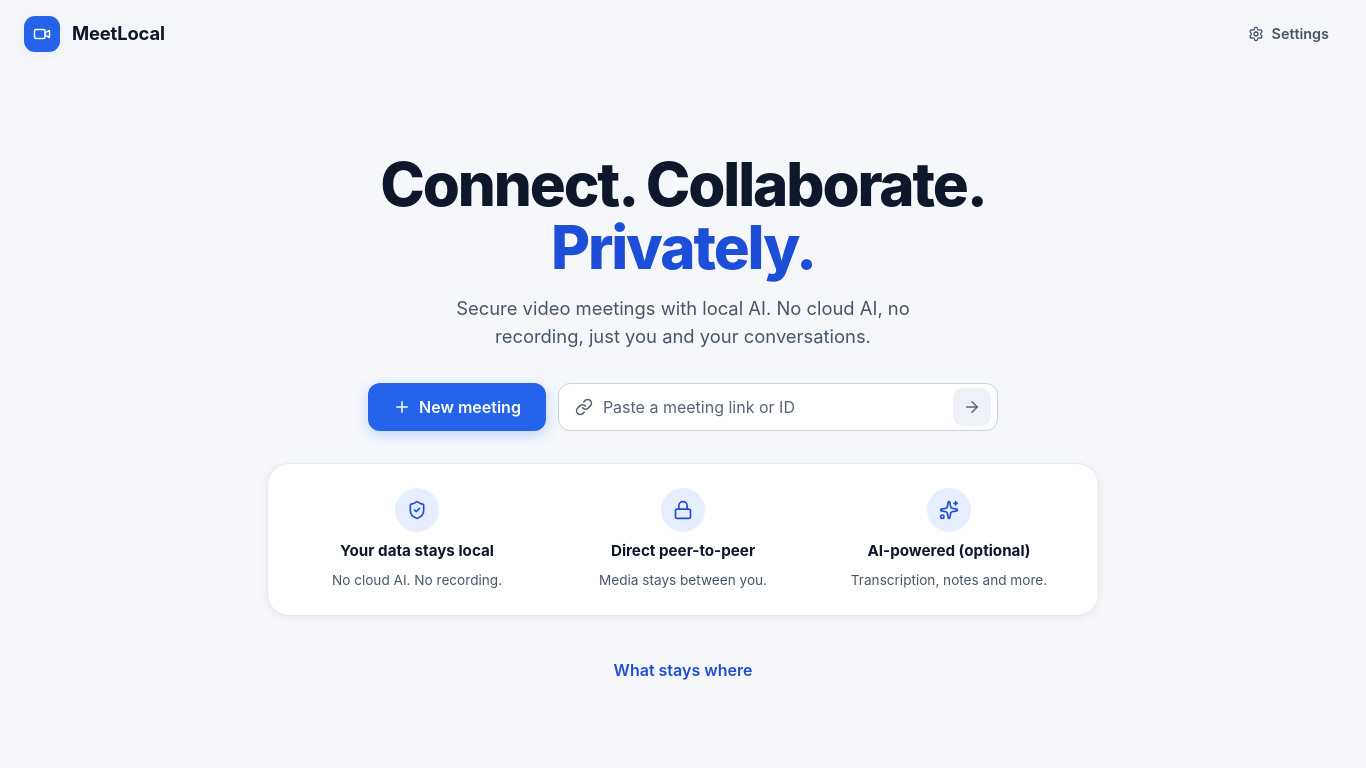
it: home page › creates a meeting and shows its shareable link
Click the button "New meeting" at (457, 407), box [368,383,546,431]
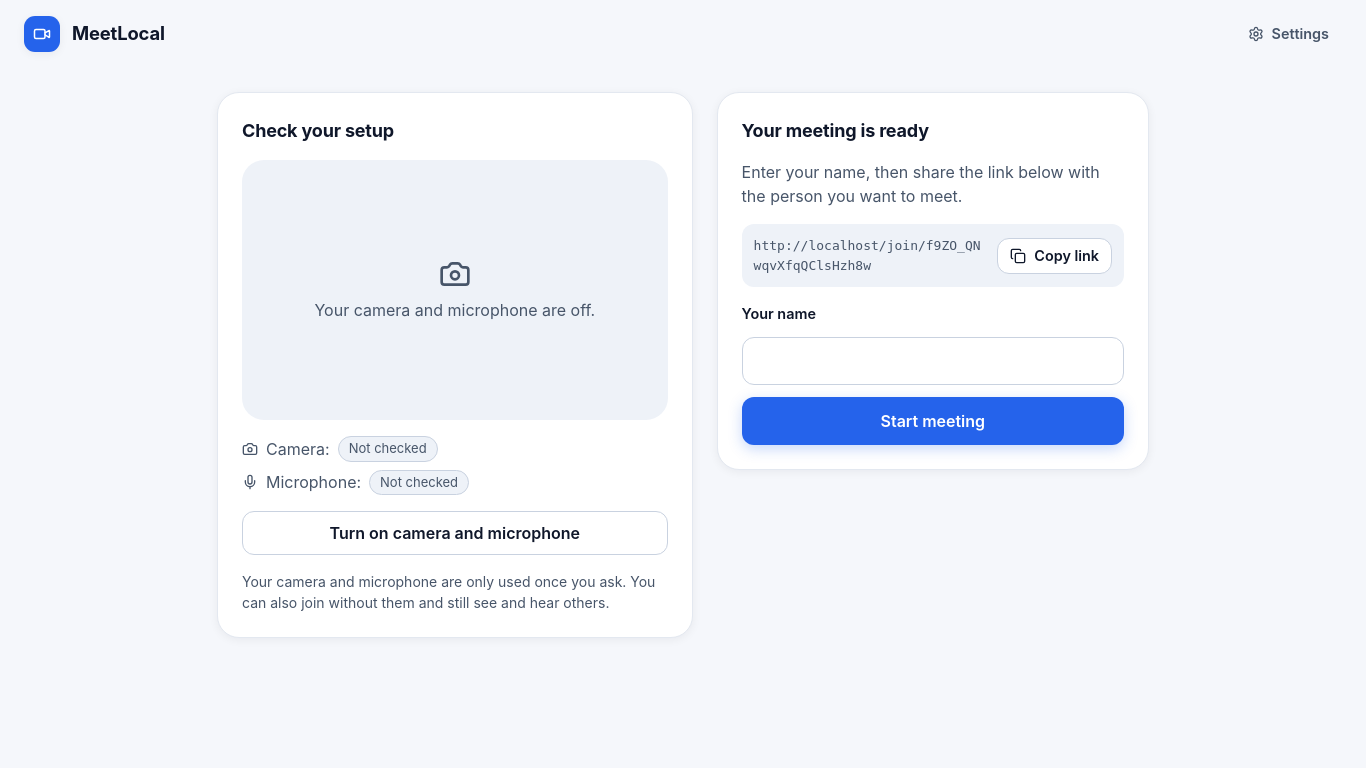
Now the heading "Your meeting is ready" is shown, box [742,120,929,141]
